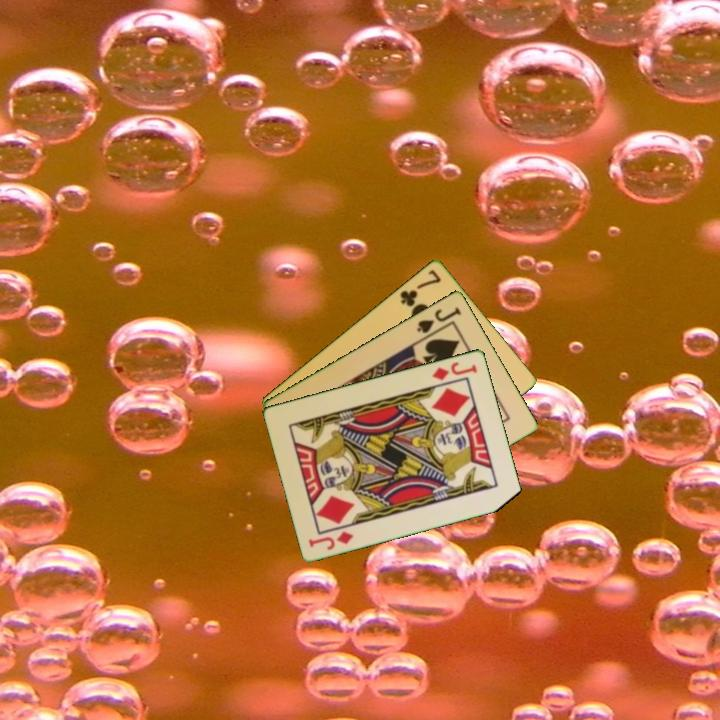7c: (396, 265, 444, 309)
Jd: (305, 527, 357, 553), (429, 358, 480, 383)
Js: (413, 303, 464, 336)
